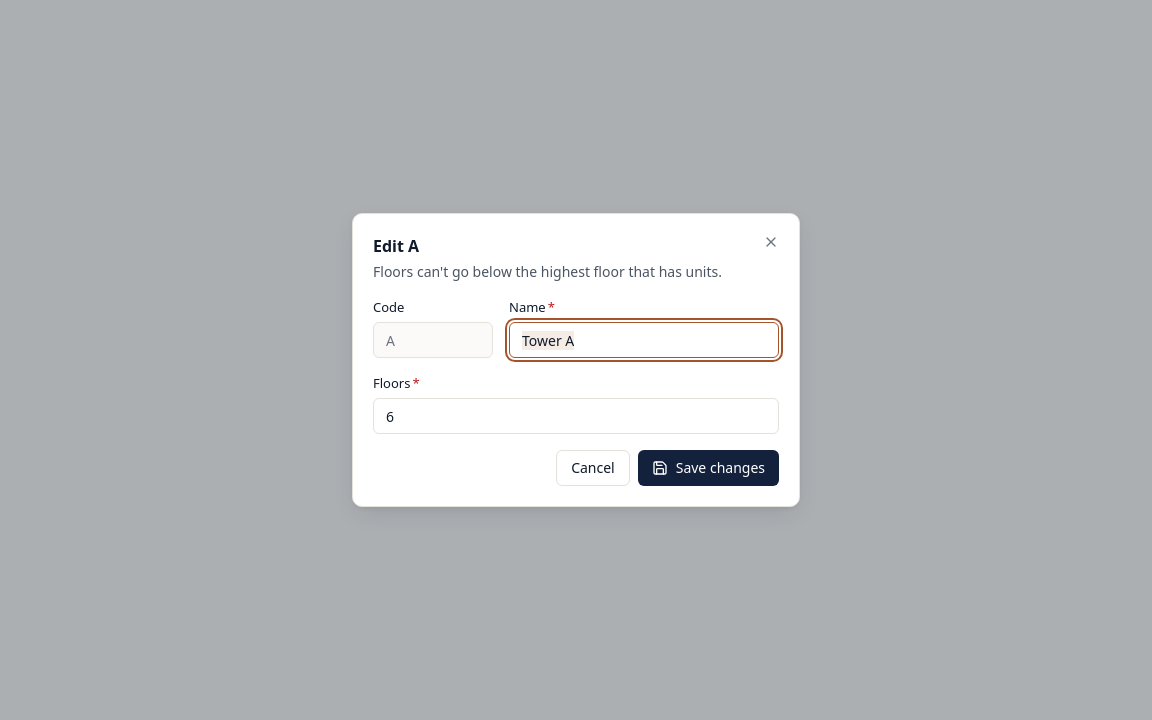
plan and building forms › shows the API's rule when floors would drop below existing units
Expected: the field labelled "Code" is disabled, x1=373 y1=322 x2=493 y2=358
Replace the text in the number field labelled "Floors*" with "3" at (576, 416), box x1=373 y1=398 x2=779 y2=434
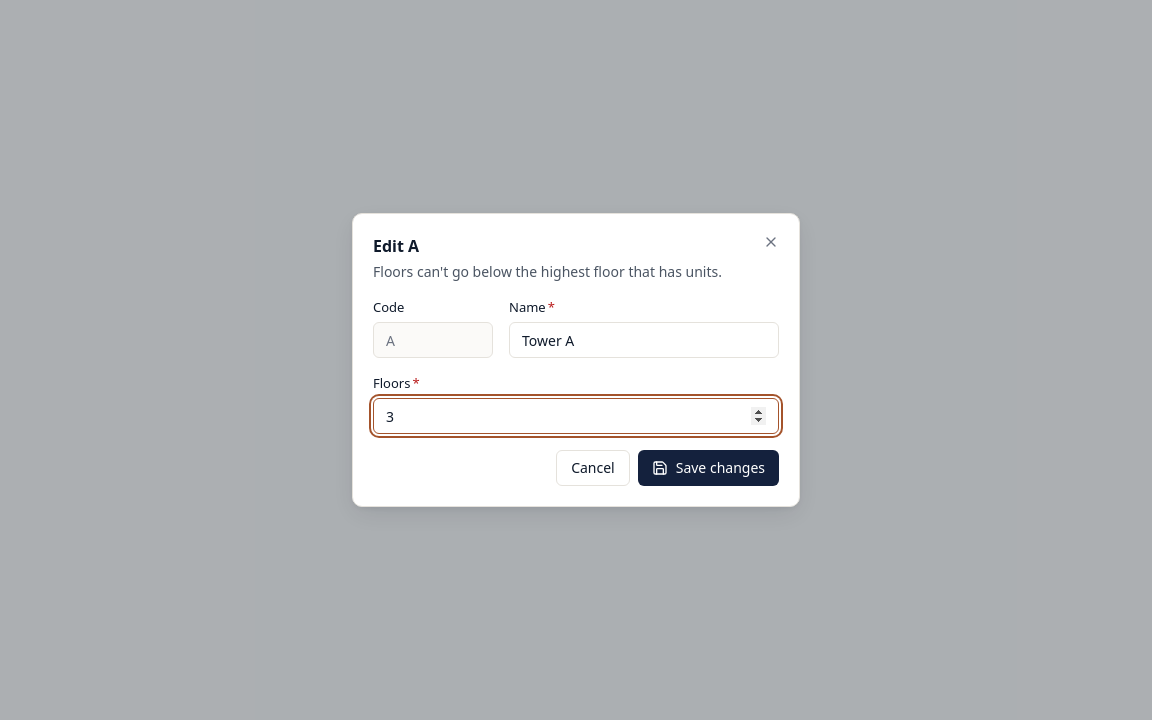
Click the button "Save changes" at (708, 468), box x1=638 y1=450 x2=779 y2=486
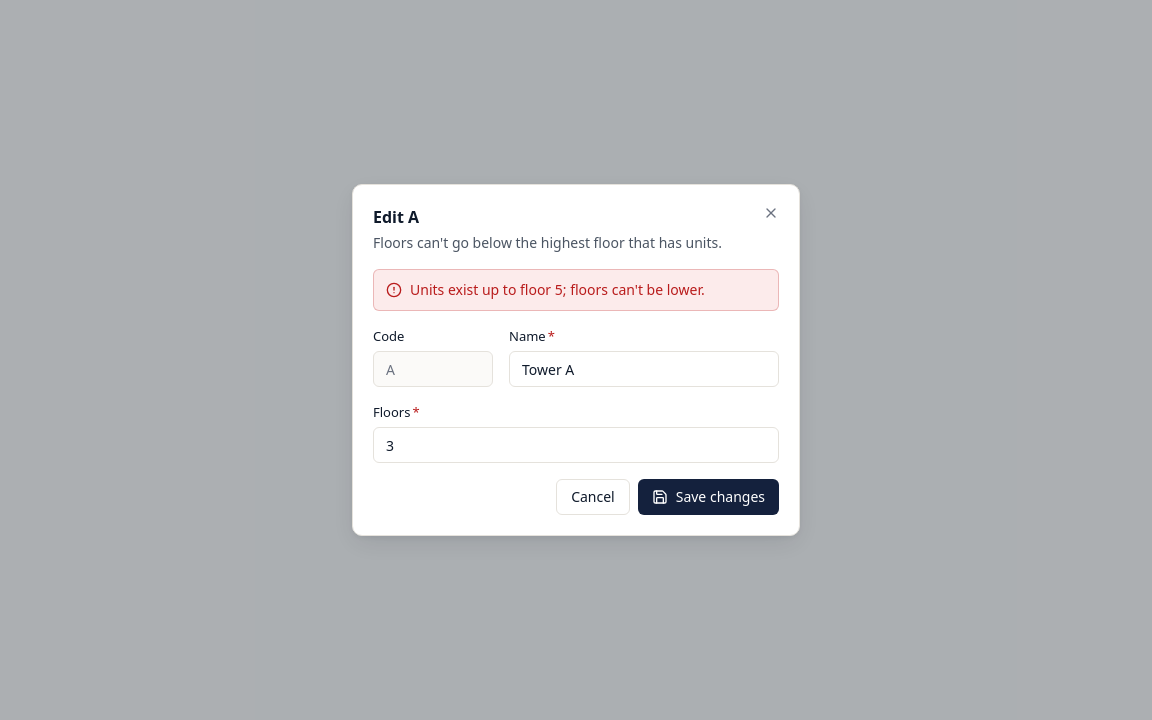
Now the text "Units exist up to floor 5; floors can't be lower." is shown, box x1=410 y1=280 x2=705 y2=300
